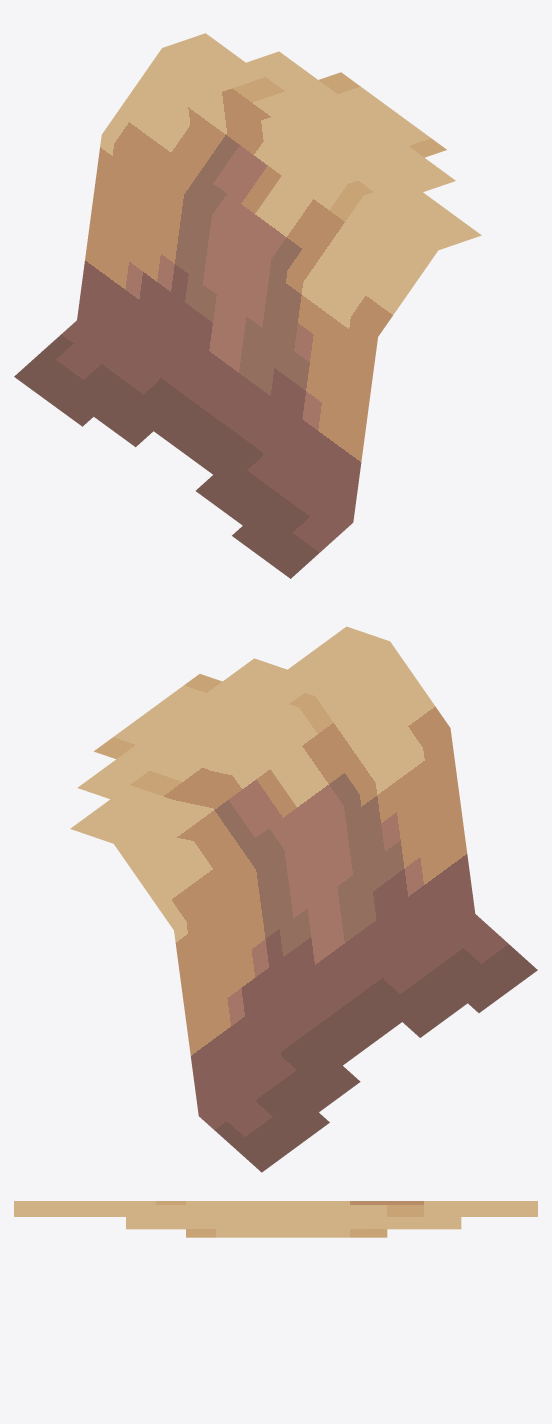
The picture shows the model from 3 angles, top to bottom: view 1: azimuth 30°, elevation 25°; view 2: azimuth 150°, elevation 25°; view 3: azimuth 270°, elevation 25°; orthographic projection. The views are drawn at different scales.
Bounding box in the file's own units: 0.5173 × 0.6035 × 1.
1 material, 1 textured.
